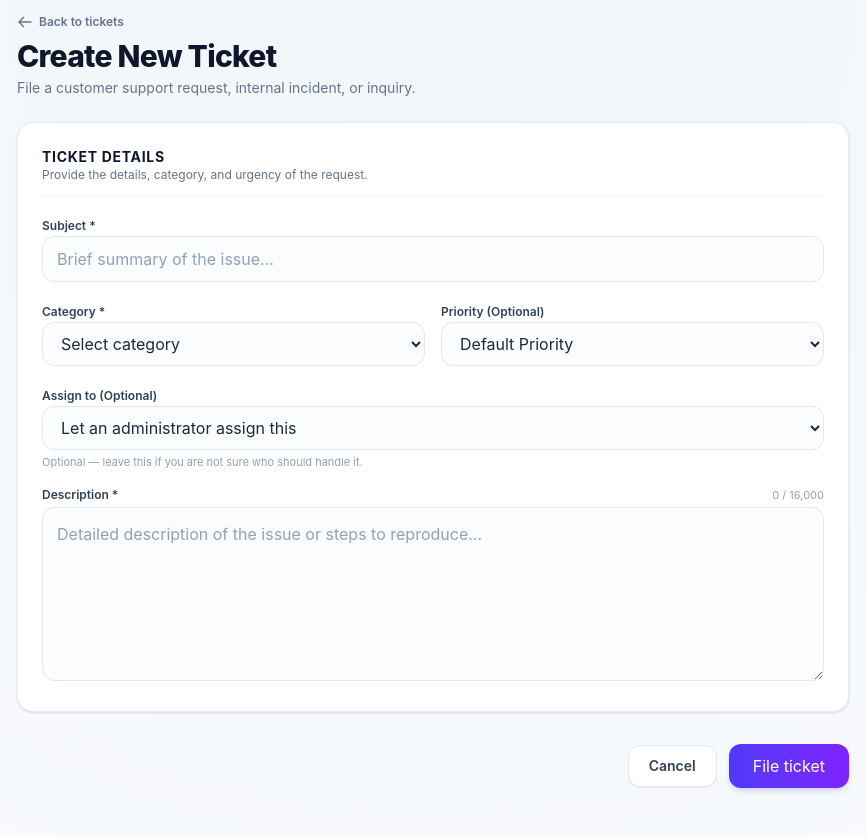
NewTicketView › merges a 422 response into field errors and shows no generic banner
The width and height of the screenshot is (867, 837).
Type "Printer jam" into the field with test id "new-ticket-subject" at (433, 259), box [42,236,824,282]
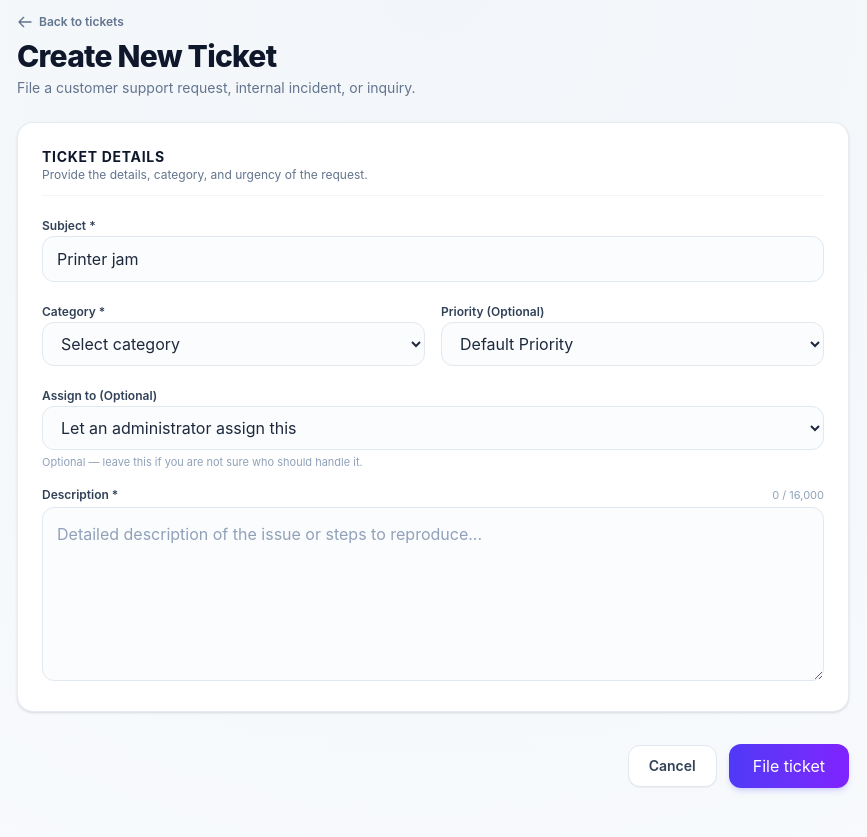
Type "It is stuck badly." into the text box with test id "new-ticket-description" at (433, 594), box [42,507,824,681]
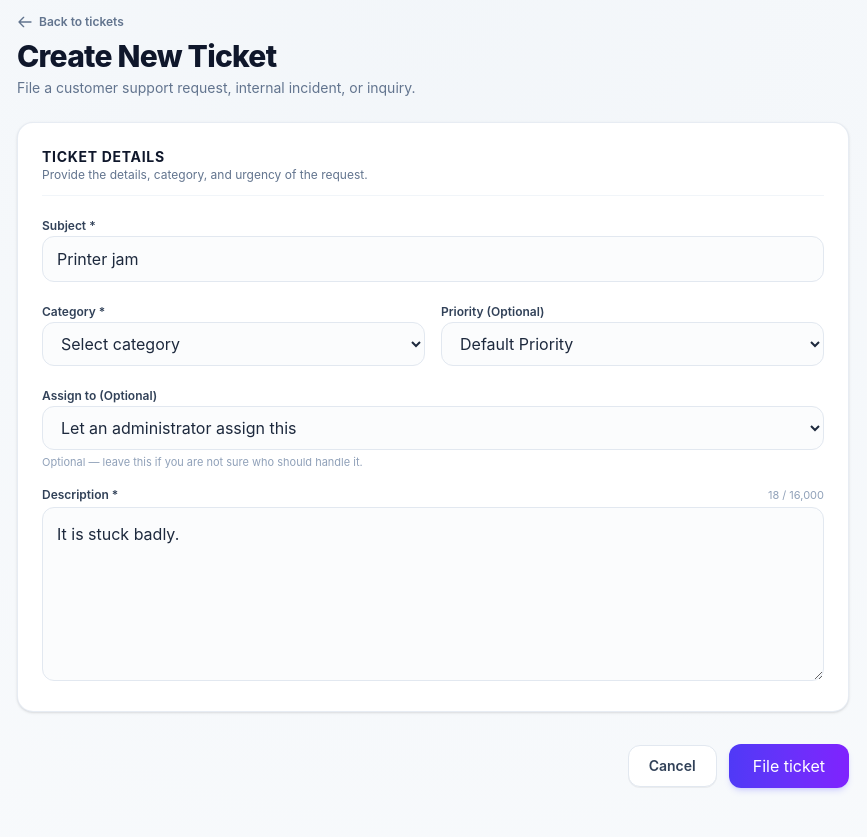
Select "Hardware" in the dropdown with test id "new-ticket-category" at (234, 344), box [42,322,425,366]
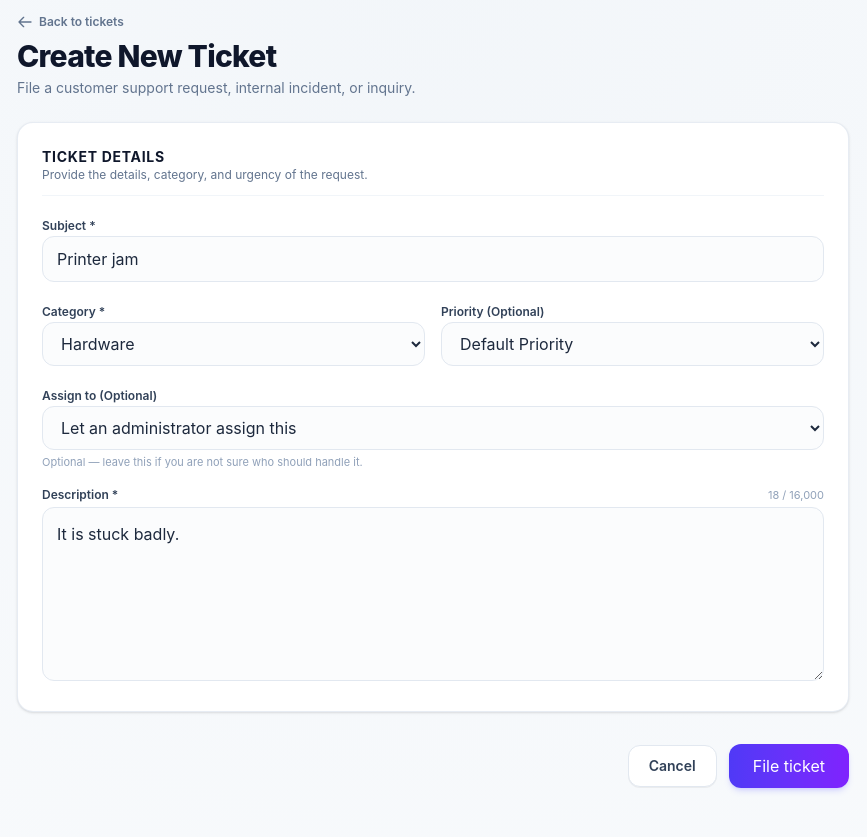
Submit the form with test id "new-ticket-form"
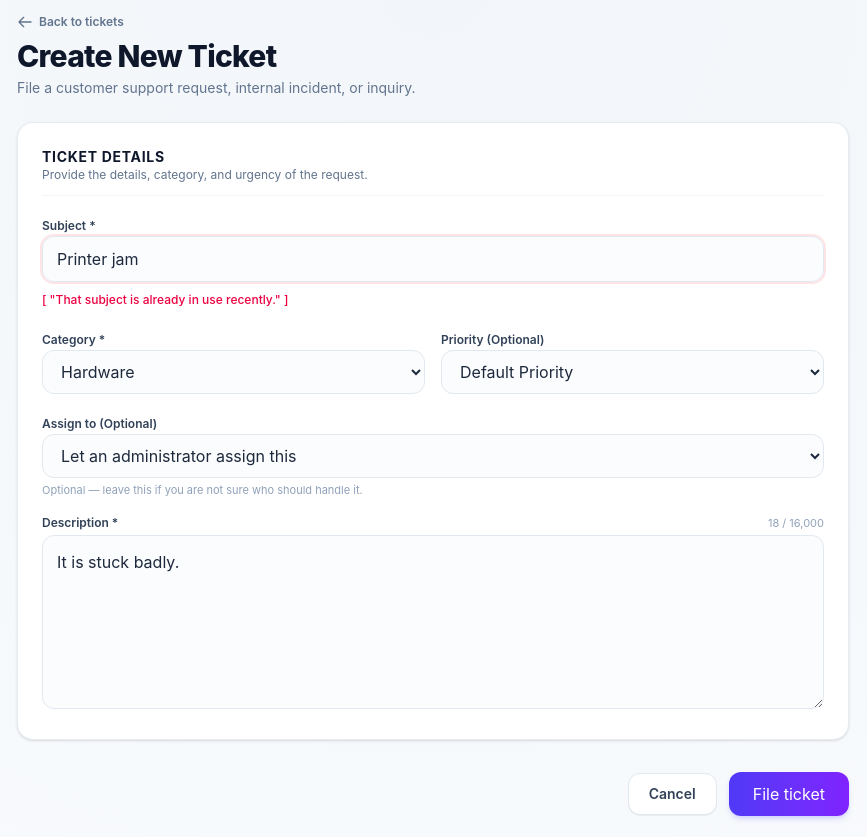
Now the text "That subject is already in use recently." is shown, box [42,292,288,307]
